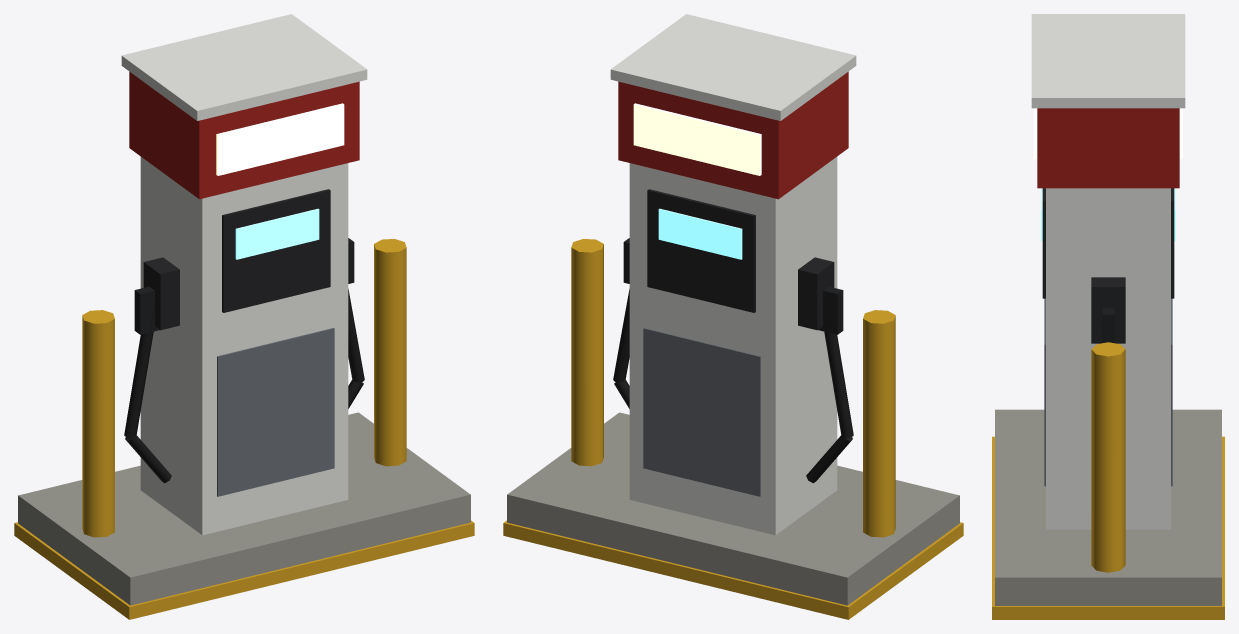
File: fuel_pump.glb
3 views of the same model, side by side, from view 1: azimuth 30°, elevation 25°; view 2: azimuth 150°, elevation 25°; view 3: azimuth 270°, elevation 25° (orthographic).
Visible parts, largest first — view 1: fuel_pump; view 2: fuel_pump; view 3: fuel_pump.
Boxes of the visible parts, x1,y1,x2,y2 form: fuel_pump: (14, 14, 474, 619); fuel_pump: (503, 14, 963, 619); fuel_pump: (992, 14, 1224, 619).
Size of the model in its own units: 1.42 by 1.86 by 0.82.
Materials: 1 (1 with a texture image).
